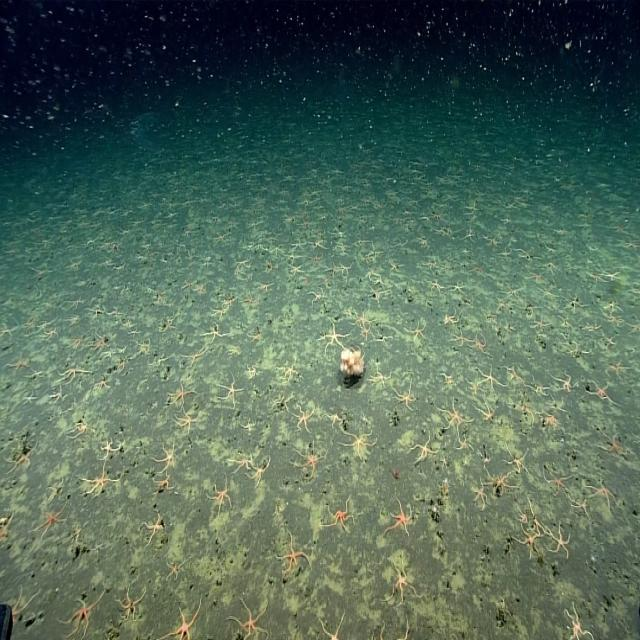brittle-stars: (64, 588, 104, 638), (230, 598, 268, 639), (161, 604, 201, 640), (278, 533, 310, 574), (389, 558, 416, 602), (35, 502, 68, 538), (561, 602, 592, 640), (84, 464, 118, 498), (6, 441, 40, 473), (11, 587, 38, 624), (117, 586, 145, 620), (327, 499, 353, 533), (591, 478, 617, 512), (388, 498, 411, 536), (441, 400, 468, 432), (527, 497, 549, 536), (409, 432, 437, 462), (516, 525, 543, 556), (298, 442, 324, 474), (317, 615, 350, 640), (208, 480, 232, 514), (550, 522, 572, 559), (542, 465, 570, 494), (343, 432, 373, 459), (378, 617, 412, 640), (600, 428, 626, 458), (323, 326, 350, 354), (486, 469, 515, 494), (506, 445, 530, 474), (144, 513, 166, 544), (169, 380, 193, 408), (218, 376, 240, 406), (156, 441, 178, 471), (477, 365, 501, 392), (248, 456, 270, 484), (588, 379, 612, 404), (25, 318, 57, 336), (278, 356, 300, 382), (394, 382, 415, 409), (175, 411, 198, 434), (60, 362, 89, 380), (294, 406, 314, 432), (202, 324, 228, 344), (553, 372, 575, 395), (183, 344, 206, 366), (505, 366, 528, 388), (100, 437, 121, 461), (0, 511, 15, 544), (66, 330, 88, 352), (526, 376, 550, 396), (231, 451, 253, 472), (371, 366, 392, 388), (154, 471, 176, 492), (167, 556, 186, 580), (513, 247, 543, 262), (471, 482, 488, 508), (477, 402, 497, 424), (70, 417, 90, 439), (516, 402, 538, 422), (6, 354, 29, 373), (600, 309, 623, 328), (44, 481, 63, 504), (408, 322, 428, 343), (570, 496, 590, 516), (546, 395, 568, 413), (541, 408, 558, 431), (605, 361, 628, 378), (501, 282, 521, 301), (70, 523, 88, 544), (160, 314, 178, 334), (368, 285, 388, 303), (271, 394, 292, 411), (148, 353, 170, 369), (31, 262, 53, 278), (566, 343, 589, 358), (131, 340, 150, 358), (92, 333, 109, 353), (471, 333, 486, 355), (0, 324, 18, 342), (374, 330, 392, 348), (452, 328, 469, 347), (566, 296, 588, 310), (443, 309, 460, 327), (67, 293, 85, 310), (456, 436, 473, 454), (353, 308, 369, 327), (23, 390, 40, 407), (210, 305, 228, 321), (527, 268, 545, 284), (541, 286, 559, 302), (236, 254, 252, 272), (535, 317, 551, 334), (308, 289, 326, 304), (495, 293, 508, 313), (427, 278, 442, 295), (96, 377, 111, 394), (242, 291, 257, 308), (422, 259, 439, 274), (324, 411, 342, 425), (545, 260, 560, 276), (388, 258, 402, 275), (582, 320, 600, 333), (450, 280, 465, 295), (288, 264, 304, 278), (285, 249, 301, 263), (214, 231, 228, 247), (51, 386, 65, 402), (92, 540, 106, 556), (462, 227, 475, 244), (467, 381, 484, 394), (64, 315, 81, 328), (587, 270, 605, 282), (339, 262, 354, 276), (373, 274, 387, 289), (245, 366, 261, 379), (255, 281, 273, 292), (64, 261, 82, 272), (241, 418, 255, 432), (195, 281, 208, 296), (469, 264, 484, 277), (89, 306, 105, 318), (42, 327, 58, 339), (310, 251, 323, 265), (266, 261, 279, 275), (360, 324, 373, 338), (248, 329, 262, 342), (442, 372, 455, 386), (223, 296, 236, 310), (28, 369, 42, 382), (309, 240, 327, 250), (105, 309, 125, 318), (326, 266, 341, 278), (627, 322, 640, 335), (270, 242, 283, 255), (485, 236, 500, 247), (545, 240, 556, 254), (604, 272, 622, 280), (418, 235, 429, 248), (292, 240, 306, 250), (119, 318, 133, 328), (116, 360, 125, 374), (368, 268, 378, 280), (440, 453, 447, 470), (498, 250, 511, 259), (226, 348, 240, 356), (128, 327, 138, 338), (430, 213, 442, 222), (420, 214, 432, 222)
